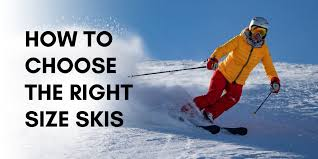skis: (168, 111, 250, 137)
